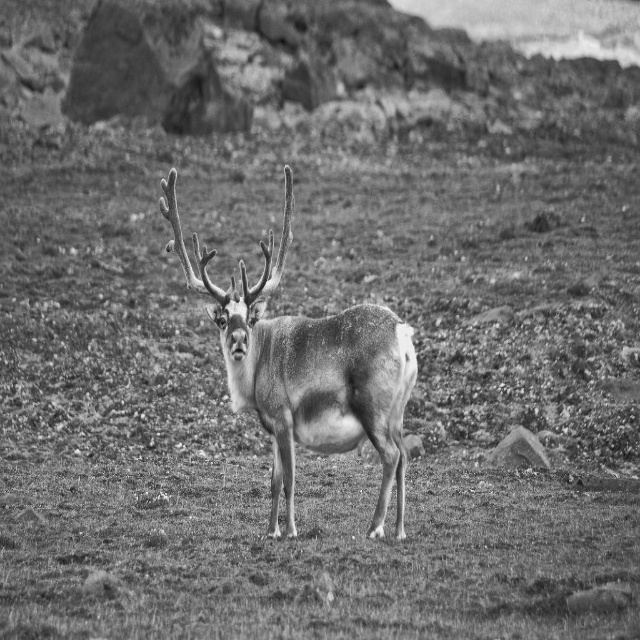Deer: (158, 165, 418, 542)
